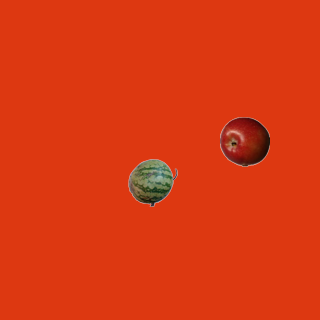Apple Braeburn: (219, 116, 269, 166)
Watermelon: (127, 157, 177, 207)
